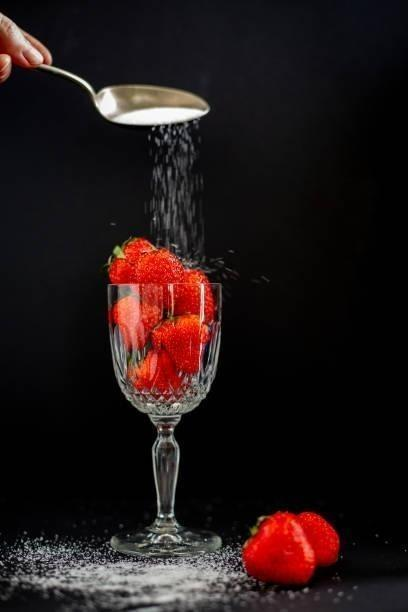glass-wine: (103, 279, 226, 558)
